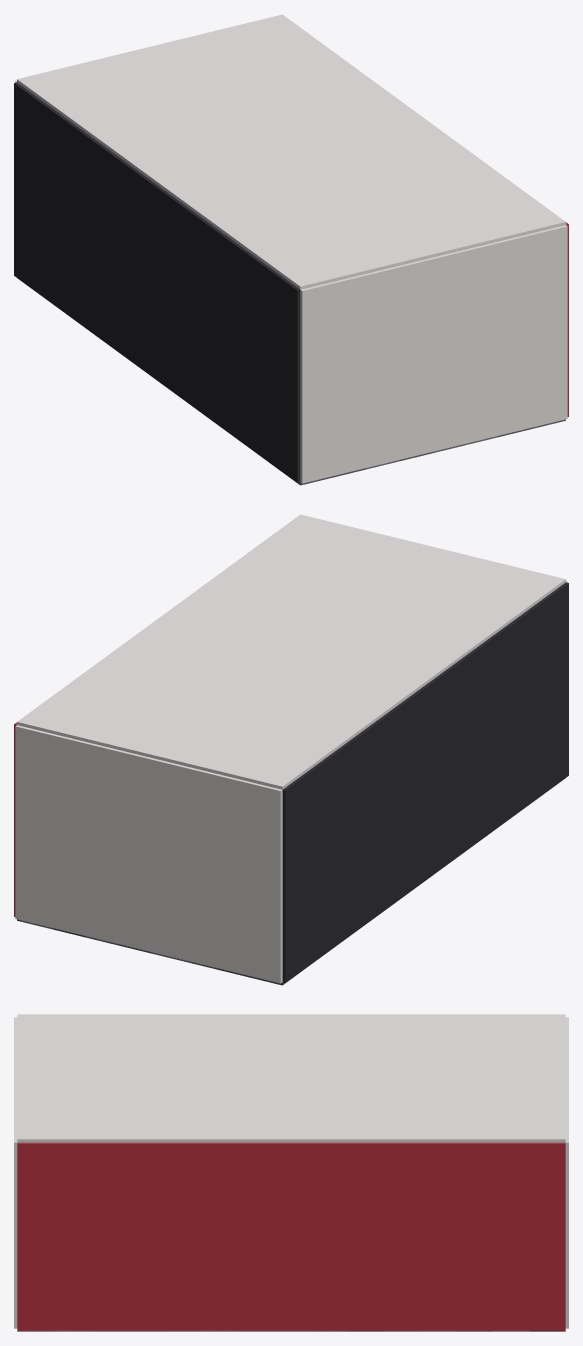
3 renders of one model, top to bottom at view 1: azimuth 30°, elevation 25°; view 2: azimuth 150°, elevation 25°; view 3: azimuth 270°, elevation 25°, orthographic. The views are drawn at different scales.
Parts seen in each view (by area): view 1: ceiling, wall_x0, wall_y0, floor; view 2: ceiling, wall_x0, wall_y1, floor; view 3: wall_x1, ceiling, wall_y0, wall_y1, floor.
Part boxes in pixels (x1,y1,x2,y2): ceiling: (17, 14, 565, 289); wall_x0: (14, 82, 300, 482); wall_y0: (300, 225, 567, 483); floor: (17, 278, 565, 485); ceiling: (17, 514, 565, 789); wall_x0: (282, 582, 568, 982); wall_y1: (15, 725, 282, 983); floor: (17, 778, 565, 985); wall_x1: (17, 1142, 565, 1330); ceiling: (17, 1014, 565, 1142); wall_y0: (14, 1017, 17, 1328); wall_y1: (565, 1017, 568, 1328); floor: (17, 1330, 565, 1331).
Size of the model in its own units: 3.69 by 2.58 by 6.76.
Materials: 80 (27 with a texture image).
